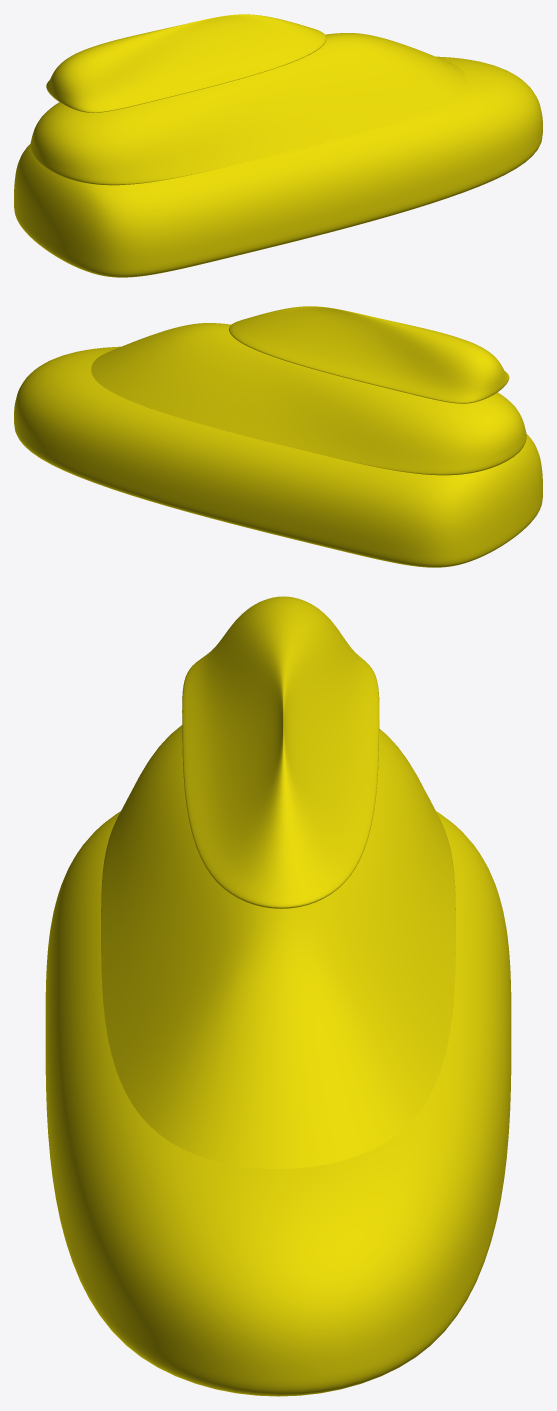
The model's file is crocWall.gltf.
3 renders of one model, top to bottom at view 1: azimuth 30°, elevation 25°; view 2: azimuth 150°, elevation 25°; view 3: azimuth 270°, elevation 25°, orthographic. The views are drawn at different scales.
Parts seen in each view (by area): view 1: Cube, Cube.001, Cube.002; view 2: Cube, Cube.001, Cube.002; view 3: Cube, Cube.001, Cube.002.
Part boxes in pixels (box(x1,y1,x2,y2)): Cube: box(14, 56, 542, 277); Cube.001: box(30, 33, 465, 185); Cube.002: box(46, 14, 326, 112); Cube: box(14, 346, 542, 567); Cube.001: box(91, 323, 526, 475); Cube.002: box(229, 306, 509, 403); Cube: box(45, 811, 511, 1396); Cube.001: box(101, 725, 455, 1169); Cube.002: box(182, 596, 379, 908).
Size of the model in its own units: 21.31 by 7.88 by 8.73.
